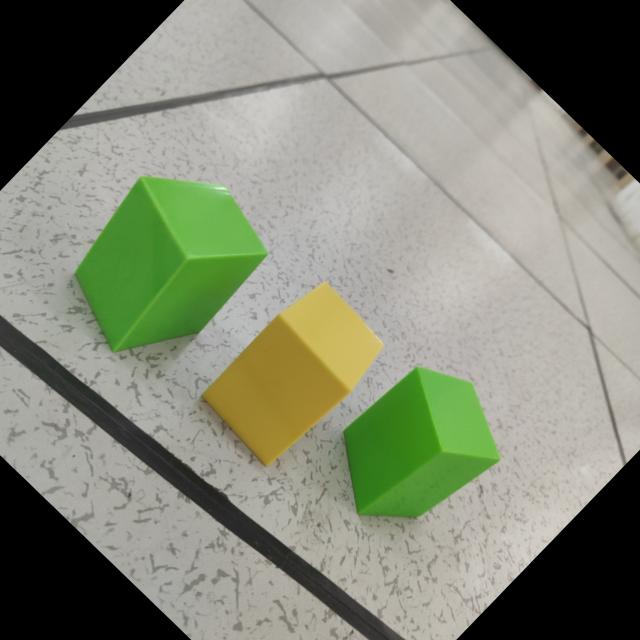green: (72, 176, 267, 353), (341, 367, 499, 520)
yellow: (200, 284, 383, 466)
